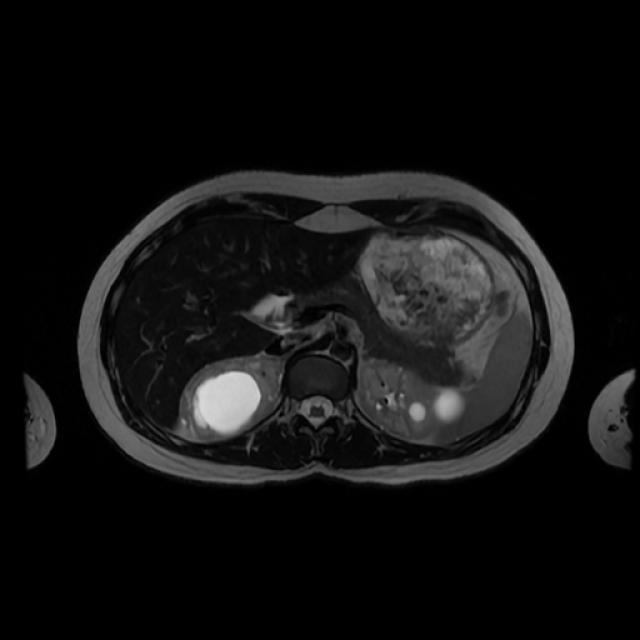sag: (181, 353, 288, 444)
sol: (356, 359, 469, 440)
